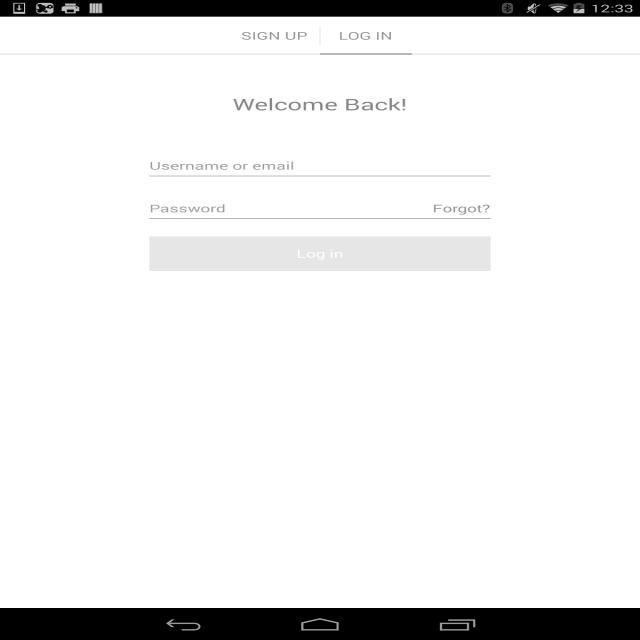EditText: (149, 155, 491, 176), (149, 198, 491, 219)
TextView: (149, 236, 491, 271), (232, 93, 408, 115), (149, 179, 491, 189), (149, 222, 491, 231), (432, 198, 490, 219), (241, 28, 307, 43), (338, 28, 392, 43)
